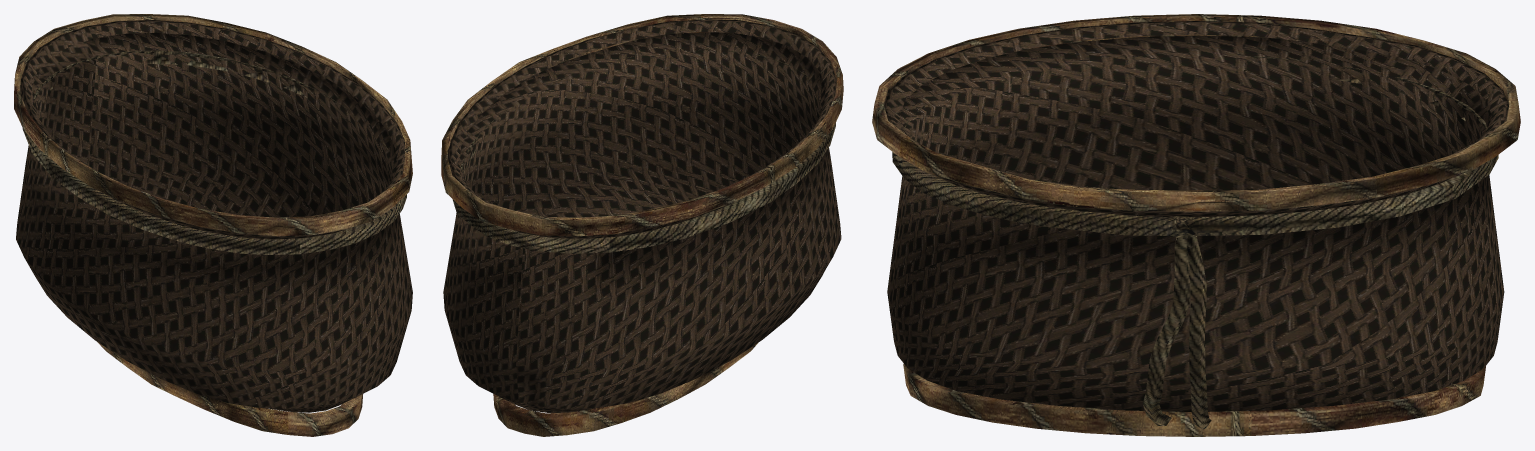
The model's file is fishing_basket.FBX.
3 renders of one model, left to right at view 1: azimuth 30°, elevation 25°; view 2: azimuth 150°, elevation 25°; view 3: azimuth 270°, elevation 25°, orthographic. The views are drawn at different scales.
Parts seen in each view (by area): view 1: fishing_basket; view 2: fishing_basket; view 3: fishing_basket.
Part boxes in pixels (box(x1,y1,x2,y2)): fishing_basket: box(14, 14, 412, 436); fishing_basket: box(441, 14, 843, 436); fishing_basket: box(872, 14, 1520, 436).
Size of the model in its own units: 23.39 by 34.66 by 16.77.
